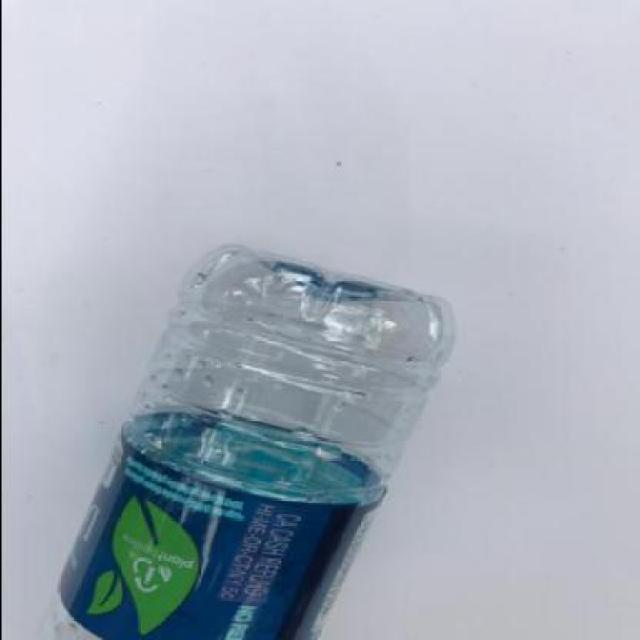PLASTIC: (32, 244, 456, 639), (57, 408, 386, 640)
